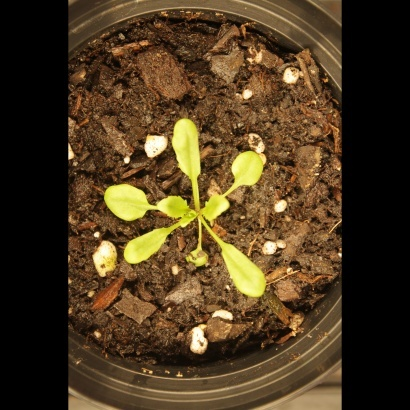leaf: (216, 237, 270, 304), (162, 112, 210, 184), (97, 180, 156, 225), (119, 227, 175, 269), (227, 140, 272, 192), (198, 191, 238, 224), (183, 241, 218, 273), (155, 193, 190, 222)
